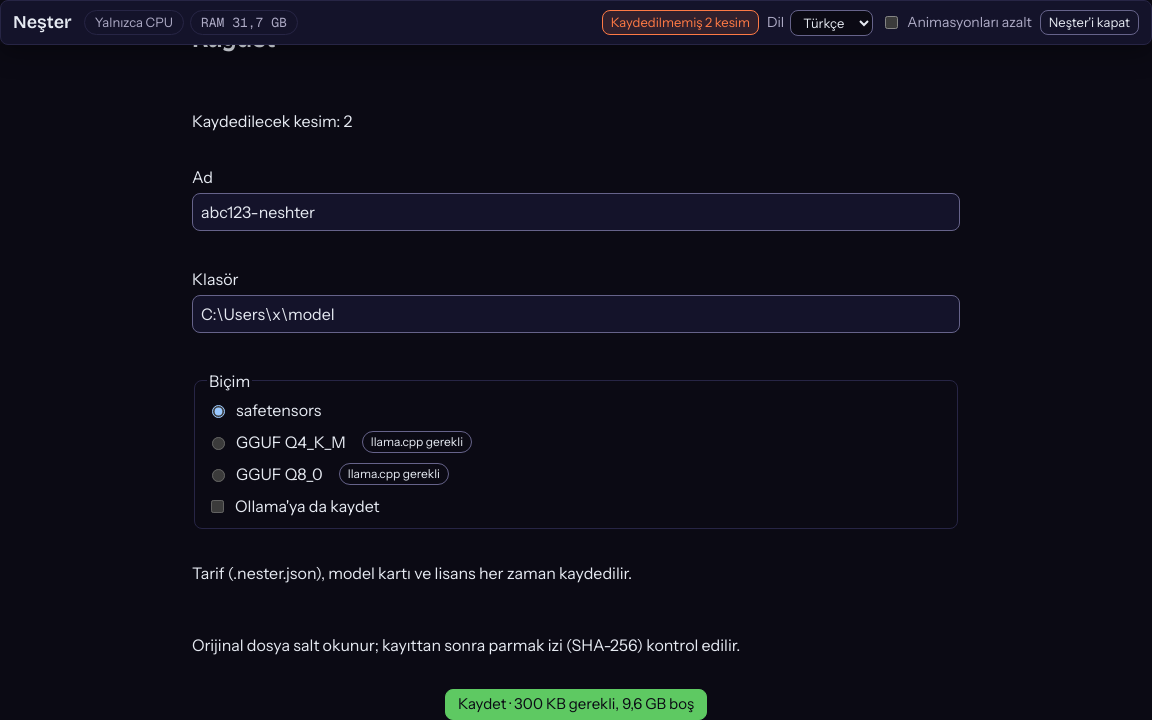
Test: result card shows untouched source, SHA and safety badge; title is Kaydedildi
The width and height of the screenshot is (1152, 720).
(page scrolled)
Check: the field labelled "Ad" holds "abc123-neshter", box [192,193,960,231]
Click the button "Kaydet · 300 KB gerekli, 9,6 GB boş": (576, 705) [445,689,707,719]
(page scrolled)
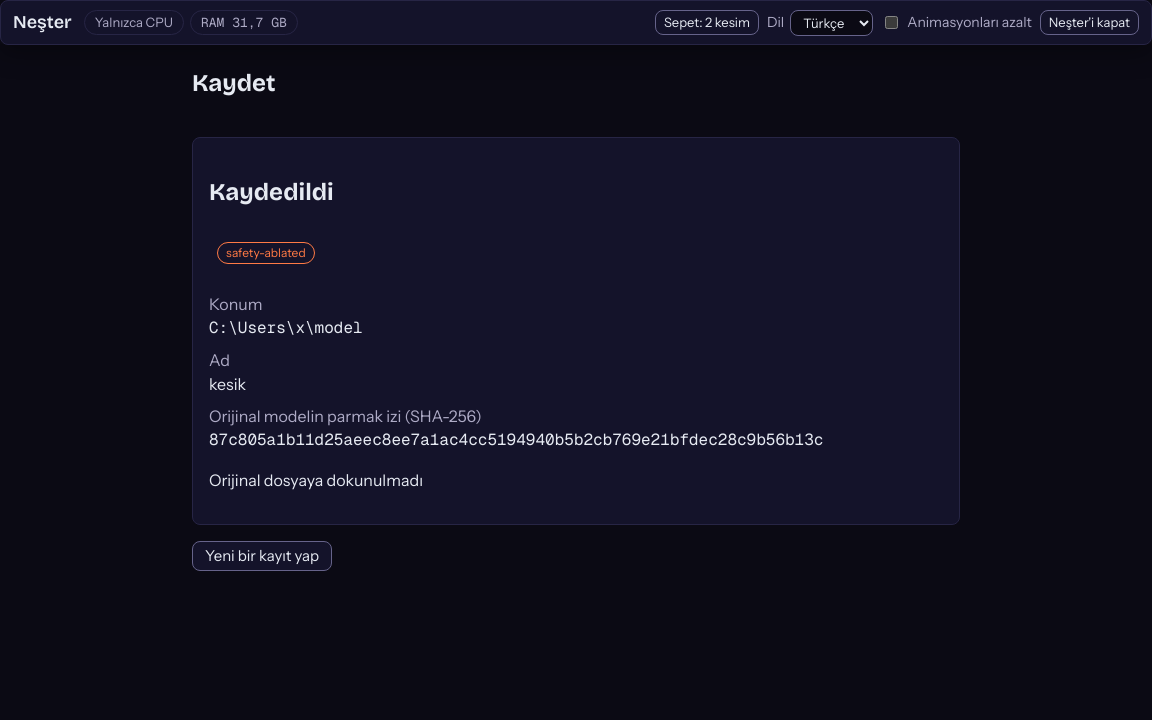
Check: the element "Kaydedildi" shows "Orijinal dosyaya dokunulmadı", box [209,470,423,490]
Check: the element "Kaydedildi" shows "87c805a1b11d25aeec8ee7a1ac4cc5194940b5b2cb769e21bfdec28c9b56b13c", box [209,429,823,450]
Check: the element "Kaydedildi" shows "C:\\Users\\x\\model", box [209,317,363,338]
